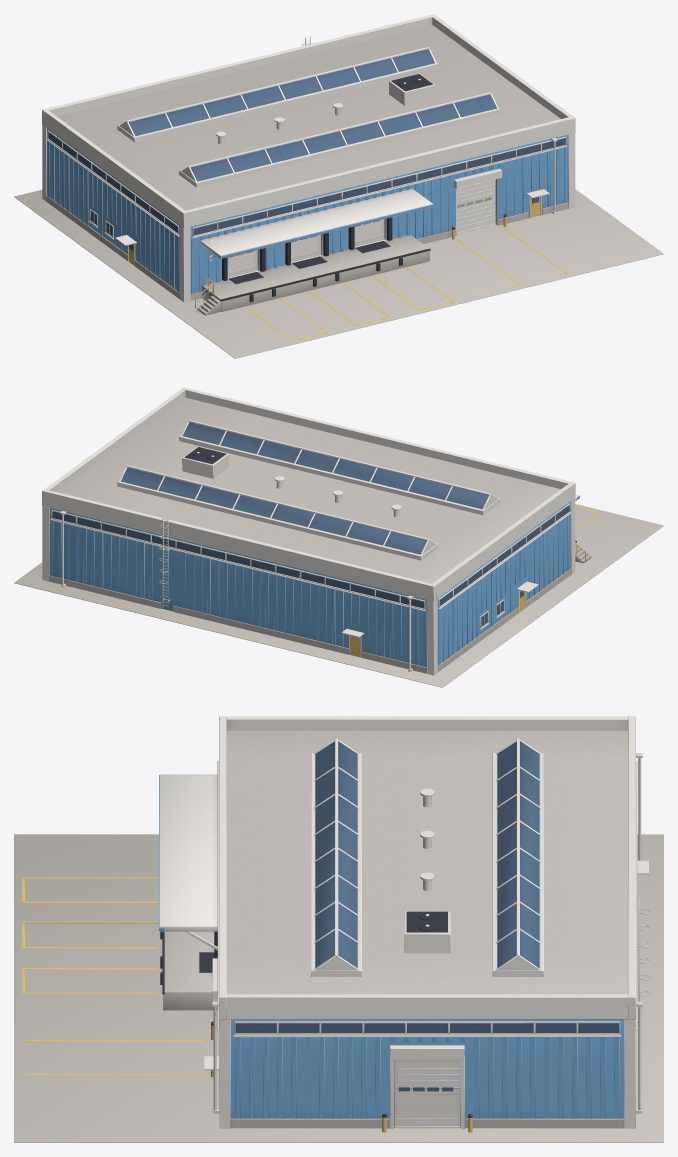
File: warehouse.glb
3 views of the same model, one above another, from view 1: azimuth 30°, elevation 25°; view 2: azimuth 150°, elevation 25°; view 3: azimuth 270°, elevation 25° (orthographic). The views are drawn at different scales.
Parts seen in each view (by area): view 1: warehouse_body, warehouse_hall, warehouse_yard_slab, warehouse_roller_door; view 2: warehouse_body, warehouse_hall, warehouse_yard_slab; view 3: warehouse_hall, warehouse_body, warehouse_yard_slab.
Part boxes in pixels (x1,y1,x2,y2): warehouse_body: (42, 14, 575, 341); warehouse_hall: (47, 24, 568, 294); warehouse_yard_slab: (14, 189, 663, 358); warehouse_roller_door: (456, 179, 495, 234); warehouse_body: (42, 387, 600, 675); warehouse_hall: (49, 397, 570, 667); warehouse_yard_slab: (14, 504, 663, 687); warehouse_hall: (226, 730, 628, 1126); warehouse_body: (22, 716, 650, 1132); warehouse_yard_slab: (14, 834, 663, 1142).
Size of the model in its own units: 44 by 9.54 by 39.3.
Materials: 5 (2 with a texture image).
